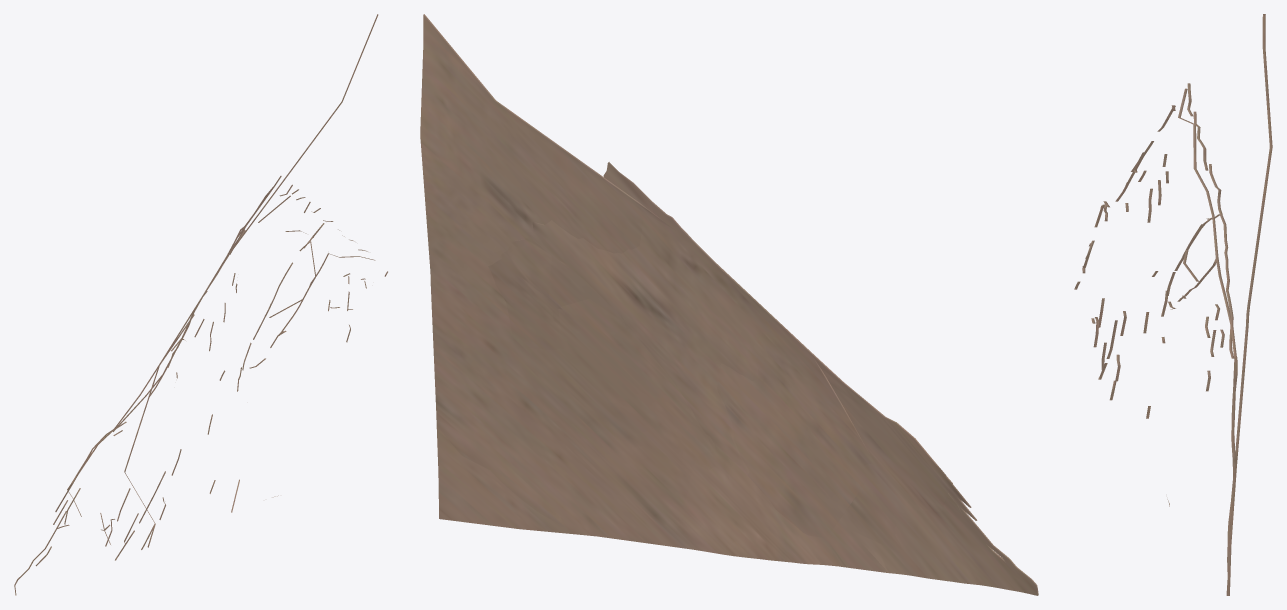
3 renders of one model, left to right at view 1: azimuth 30°, elevation 25°; view 2: azimuth 150°, elevation 25°; view 3: azimuth 270°, elevation 25°, orthographic. The views are drawn at different scales.
Size of the model in its own units: 24.26 by 22.66 by 7.25.
Materials: 1 (1 with a texture image).
